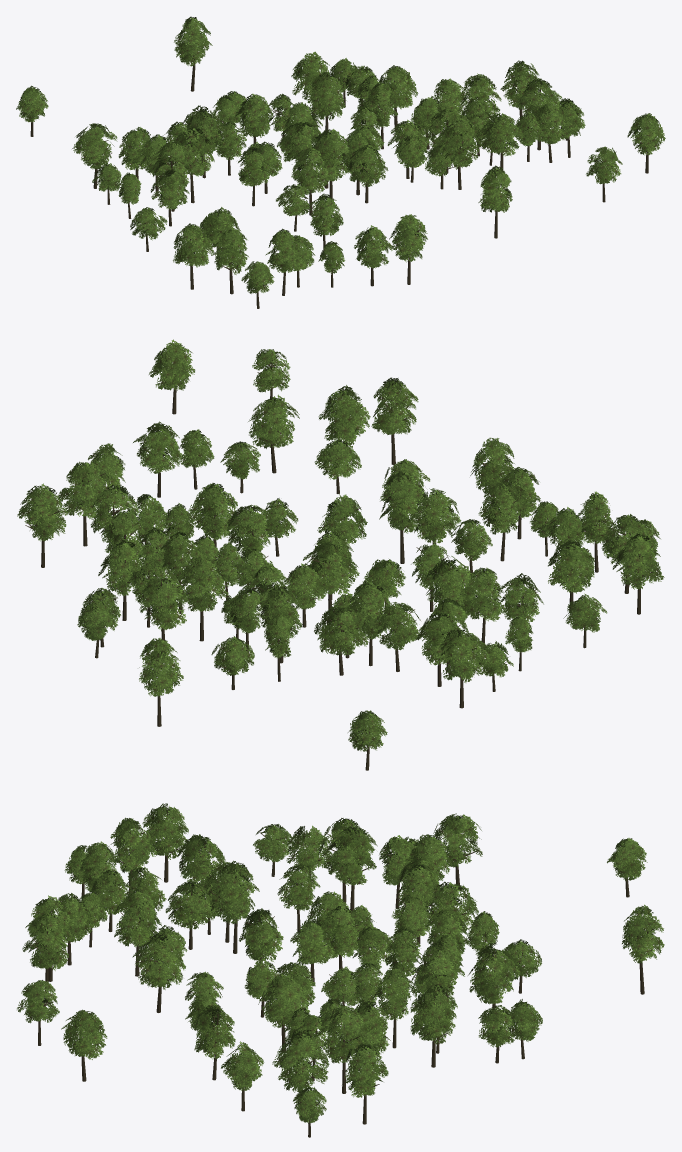
Rendered from TRB8-FOREST-CHUNK-5-5.glb.
The picture shows the model from 3 angles, top to bottom: view 1: azimuth 30°, elevation 25°; view 2: azimuth 150°, elevation 25°; view 3: azimuth 270°, elevation 25°; orthographic projection. The views are drawn at different scales.
Parts seen in each view (by area): view 1: TRB8-FOREST-CHUNK-5-5; view 2: TRB8-FOREST-CHUNK-5-5; view 3: TRB8-FOREST-CHUNK-5-5.
Boxes of the visible parts, <box> form: TRB8-FOREST-CHUNK-5-5: <box>16,16,665,308</box>; TRB8-FOREST-CHUNK-5-5: <box>17,339,664,770</box>; TRB8-FOREST-CHUNK-5-5: <box>17,803,664,1137</box>.
Size of the model in its own units: 39.5 by 9.68 by 39.87.
Materials: 2 (1 with a texture image).
